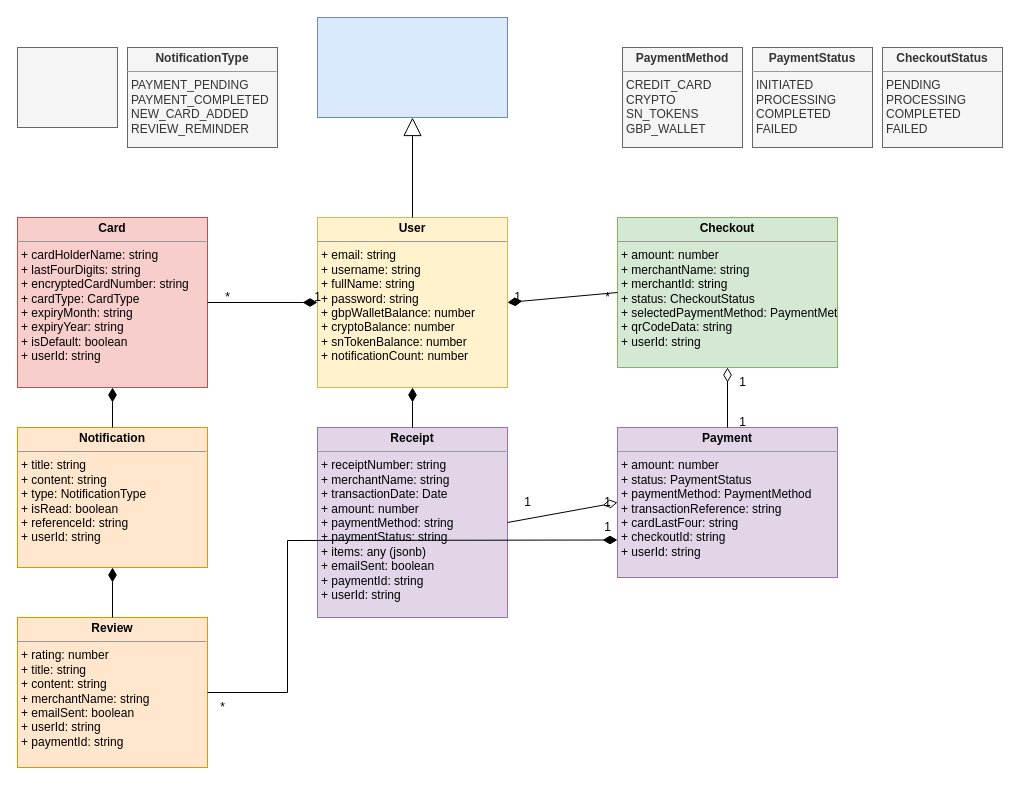
Image size: 1020x785. Some labels were removed from this diagram. The centre of each missing label's shape, as x and y in pixels:
"<<Abstract>> BaseEntity # id: string (uuid) # createdAt: Date # updatedAt: Date" belongs at point 412,67.
"CardType VISA MASTERCARD AMEX" belongs at point 67,87.
